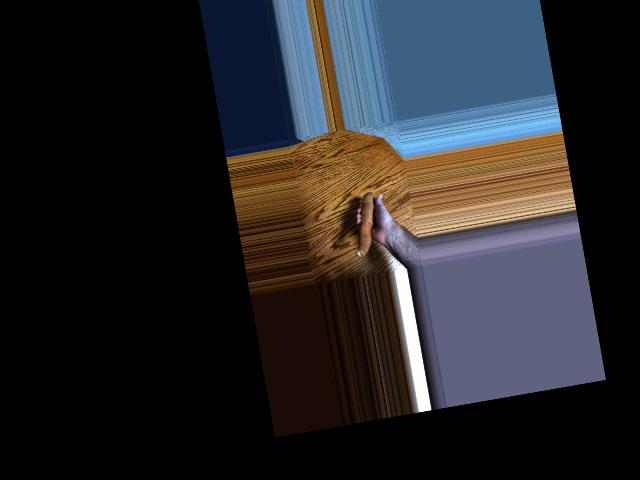sweet_potato: (356, 190, 383, 255)
